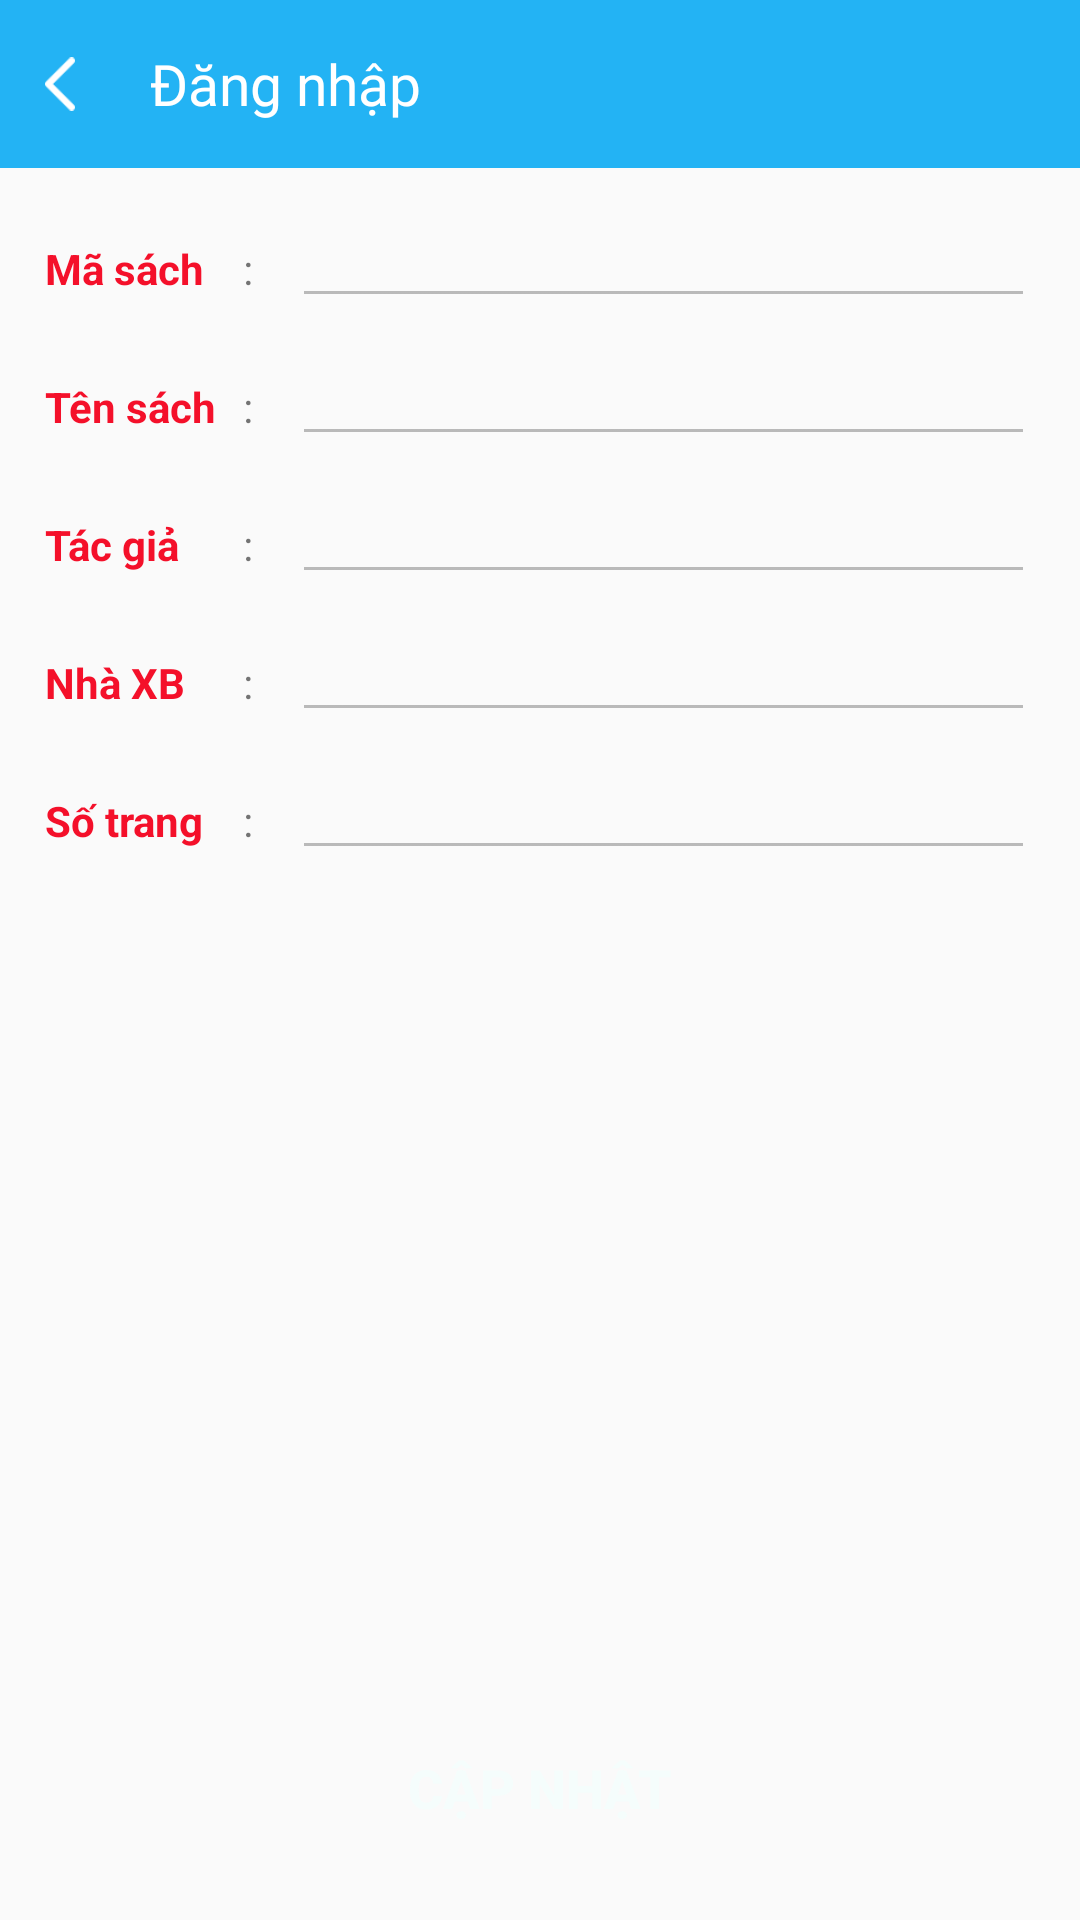

Screen size 1080 × 1920. Icon name, then its center in pixels as [x,y]:
back: [60,84]
